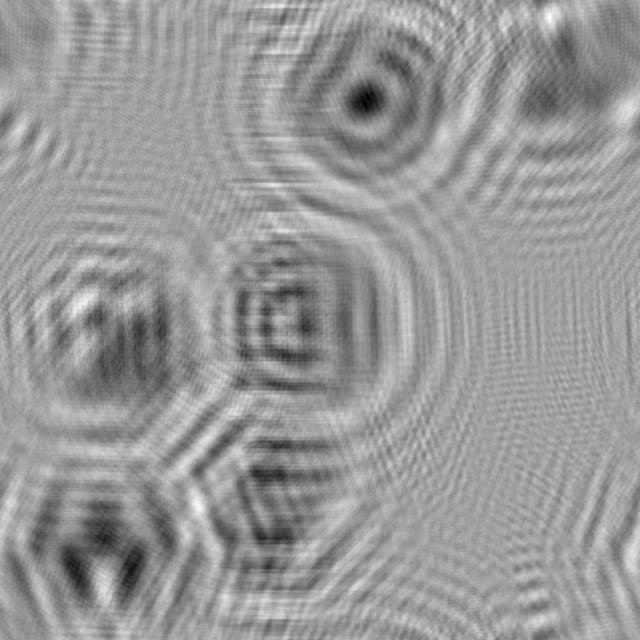D: (149, 174, 443, 445)
K: (0, 199, 231, 446)
P: (232, 0, 484, 231)
W: (0, 435, 218, 640)
Y: (437, 0, 640, 209)
Z: (137, 381, 410, 614)
